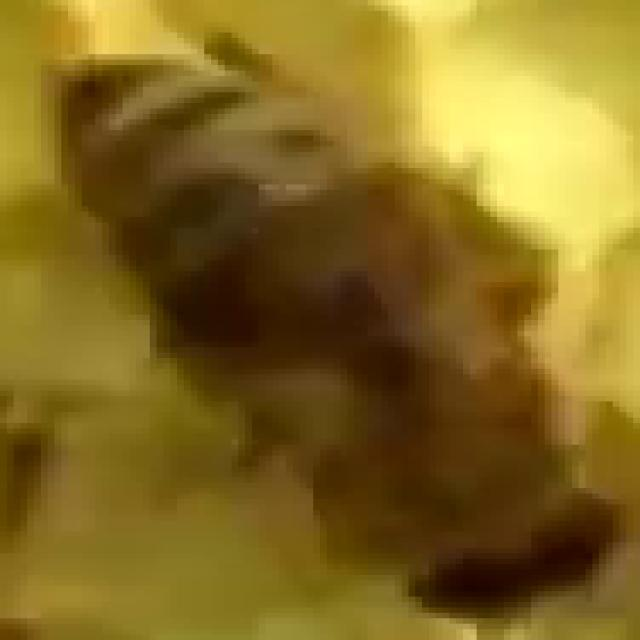honeybee: (43, 40, 619, 640)
